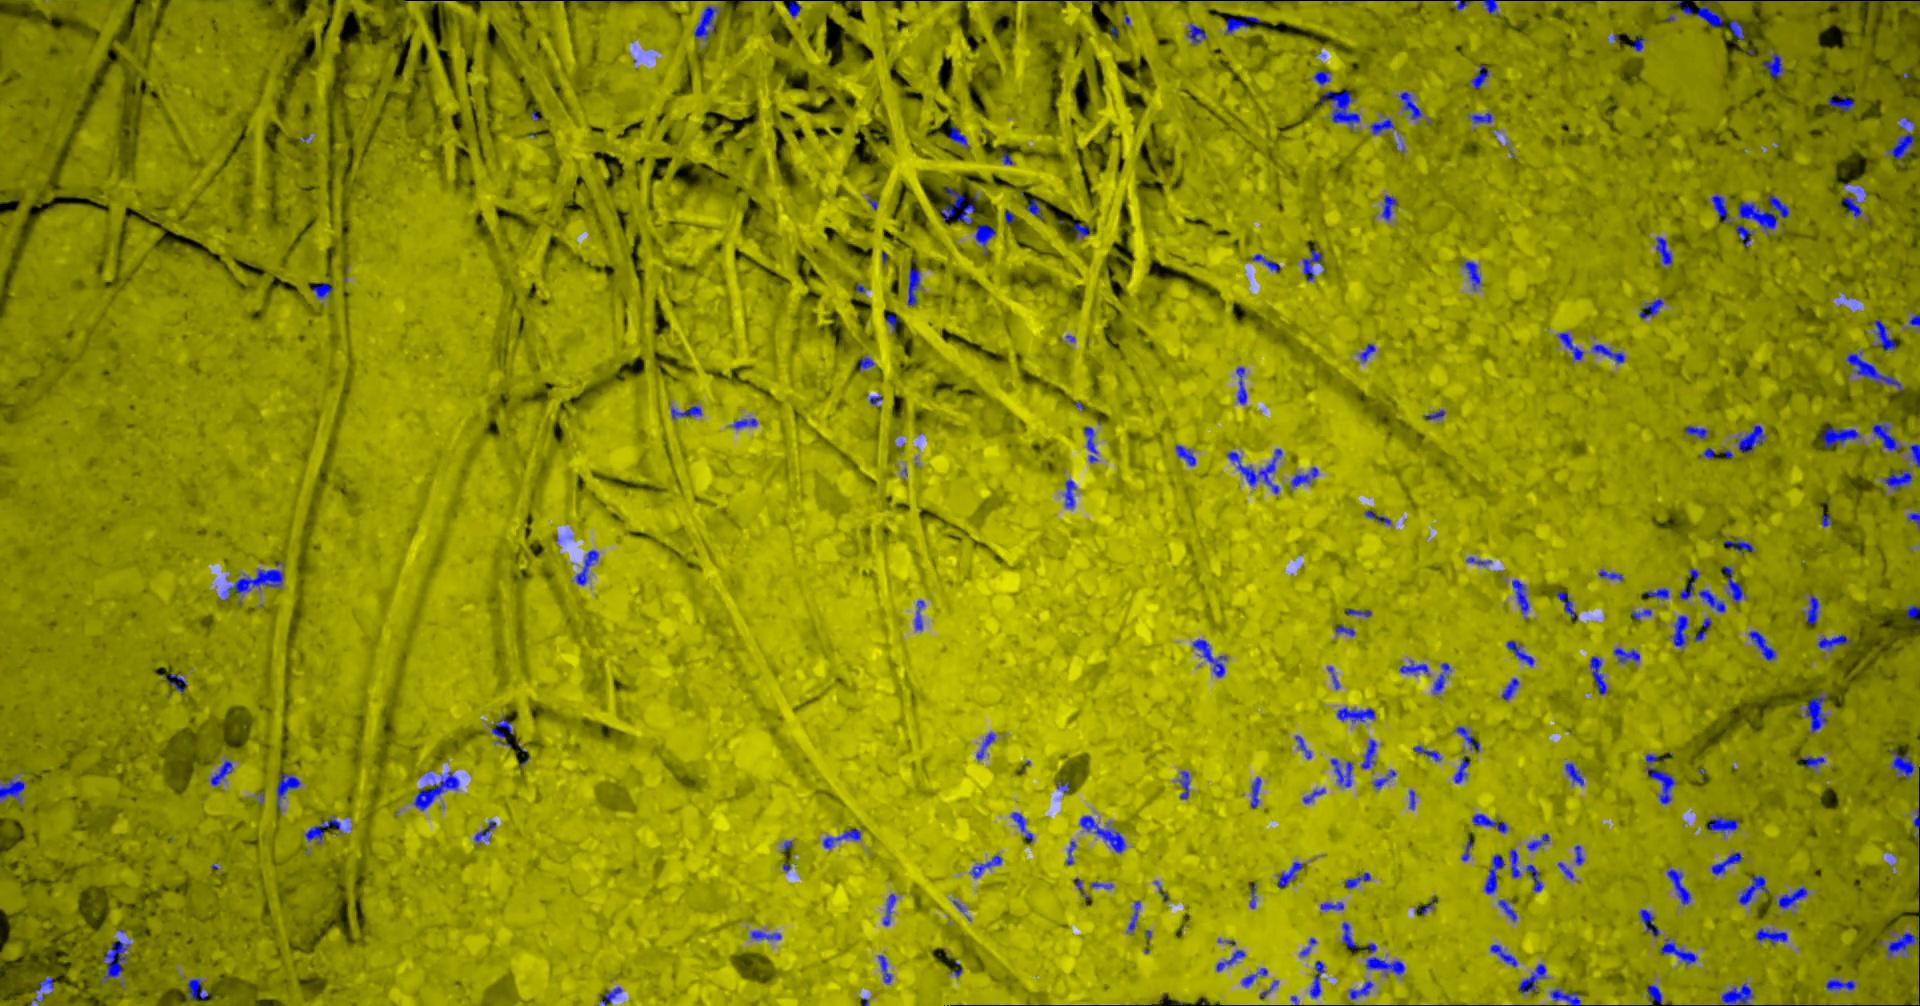ant: (1225, 448, 1281, 493), (1845, 351, 1903, 391), (1737, 193, 1789, 229), (413, 771, 458, 810), (223, 569, 283, 598), (1079, 815, 1125, 852), (1644, 753, 1676, 804), (1319, 90, 1359, 130), (940, 185, 977, 224), (1192, 638, 1225, 677), (1364, 942, 1404, 974), (102, 940, 130, 981), (1658, 937, 1697, 965), (1683, 0, 1722, 27), (303, 817, 342, 843), (1804, 692, 1827, 733), (1870, 420, 1902, 450), (1737, 875, 1768, 904), (276, 774, 300, 810), (1666, 868, 1690, 904), (693, 5, 719, 39), (1822, 426, 1860, 448), (1517, 963, 1545, 993), (575, 549, 598, 586), (1722, 567, 1745, 603), (1483, 854, 1503, 894), (1736, 424, 1765, 452), (1749, 630, 1775, 661), (1886, 932, 1919, 956), (1557, 332, 1583, 361), (822, 828, 860, 848), (1870, 319, 1895, 351), (1710, 851, 1742, 875), (1719, 982, 1752, 1005), (1888, 749, 1914, 779), (1470, 813, 1509, 832), (1677, 567, 1699, 600), (491, 716, 513, 749), (1506, 640, 1534, 666), (1010, 812, 1032, 842), (970, 854, 1001, 876), (974, 224, 996, 255), (1887, 133, 1914, 159), (1589, 655, 1606, 694), (1398, 91, 1422, 119), (1330, 758, 1352, 788), (1511, 579, 1528, 619), (1277, 861, 1303, 887), (1490, 944, 1517, 967), (1883, 467, 1912, 489), (1778, 887, 1807, 908), (1215, 949, 1244, 970), (1591, 344, 1624, 363), (1710, 193, 1731, 224), (1302, 249, 1322, 279), (1554, 591, 1575, 621), (1698, 589, 1724, 612), (1707, 815, 1738, 835), (1336, 706, 1375, 721), (1638, 908, 1658, 937), (1225, 17, 1261, 33), (1455, 727, 1479, 751), (210, 760, 232, 785), (1309, 960, 1324, 998), (1290, 466, 1318, 486), (1817, 633, 1851, 649), (1670, 615, 1688, 647), (1432, 662, 1450, 694), (1462, 260, 1481, 290), (1754, 927, 1787, 944), (1241, 967, 1267, 987), (1251, 253, 1279, 272), (977, 732, 996, 760), (1837, 196, 1862, 217), (0, 779, 24, 800), (1655, 236, 1672, 265), (1763, 52, 1783, 77), (1083, 426, 1097, 462), (1549, 988, 1580, 1005), (1827, 93, 1855, 111), (1453, 754, 1470, 782), (472, 821, 495, 842), (185, 978, 208, 1000), (949, 124, 969, 149), (907, 267, 919, 305), (1638, 298, 1663, 318), (1360, 739, 1377, 768), (1646, 984, 1669, 1005), (1470, 64, 1490, 88), (1371, 768, 1396, 788), (1525, 864, 1542, 890), (1186, 23, 1206, 44), (164, 673, 185, 694), (1564, 762, 1583, 785), (1693, 617, 1710, 641), (1349, 981, 1373, 998), (1175, 445, 1195, 465), (1497, 899, 1516, 921), (599, 986, 621, 1005), (1062, 479, 1076, 508), (1804, 594, 1818, 624), (1399, 661, 1429, 674), (1735, 224, 1752, 246), (1613, 647, 1639, 662), (1501, 677, 1519, 700), (1343, 873, 1370, 888), (670, 405, 702, 418), (883, 893, 895, 925), (1128, 901, 1140, 932), (1724, 539, 1752, 553), (1413, 746, 1441, 760), (1369, 118, 1394, 133), (1382, 194, 1397, 220), (1341, 922, 1356, 948), (1294, 735, 1310, 758), (1526, 833, 1549, 850), (1236, 367, 1246, 404), (1364, 511, 1390, 525), (877, 955, 891, 982), (1025, 199, 1043, 220), (1250, 777, 1261, 808), (1302, 788, 1324, 803), (1825, 978, 1855, 989), (311, 282, 331, 298), (1509, 848, 1520, 878), (1641, 587, 1669, 598), (36, 976, 53, 993), (1299, 937, 1316, 956), (1684, 426, 1708, 438), (914, 600, 924, 629), (1178, 770, 1189, 799), (1072, 221, 1090, 238), (1359, 343, 1375, 361), (1728, 20, 1743, 39), (731, 417, 757, 428), (1597, 569, 1623, 580), (1801, 754, 1823, 767), (1470, 111, 1492, 123), (1313, 69, 1330, 85), (750, 930, 781, 939), (1335, 624, 1355, 636), (1482, 0, 1498, 15), (1557, 862, 1573, 878), (1909, 443, 1919, 467), (1630, 608, 1651, 620), (1065, 841, 1076, 864), (786, 0, 800, 17), (1465, 556, 1491, 565), (1906, 605, 1919, 622), (885, 312, 897, 332), (1319, 901, 1343, 909), (1630, 36, 1644, 51), (1343, 608, 1371, 616), (1423, 409, 1444, 419), (1462, 840, 1472, 860), (1907, 511, 1919, 528), (858, 356, 872, 370), (1575, 843, 1583, 864), (1057, 780, 1069, 793), (1455, 0, 1470, 10), (1909, 314, 1919, 328), (1250, 883, 1255, 908), (1820, 0, 1919, 1)
